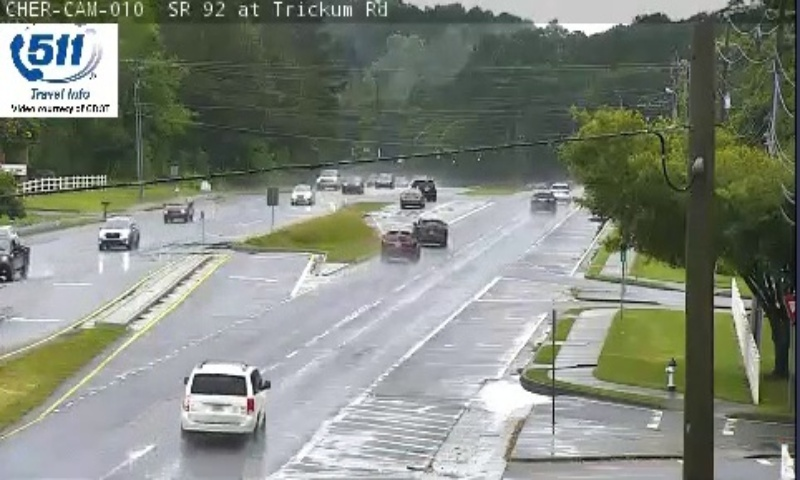car: (180, 362, 267, 436), (381, 229, 419, 258), (418, 216, 446, 245)
